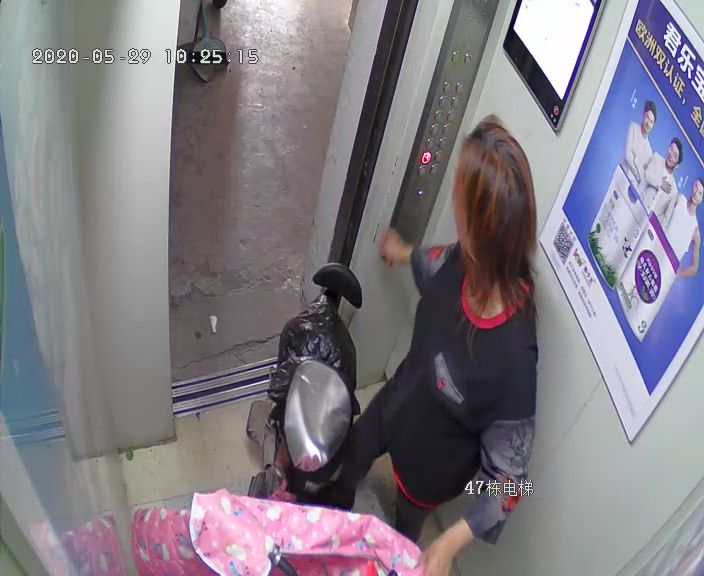Electric-bicycle: (190, 264, 424, 576)
